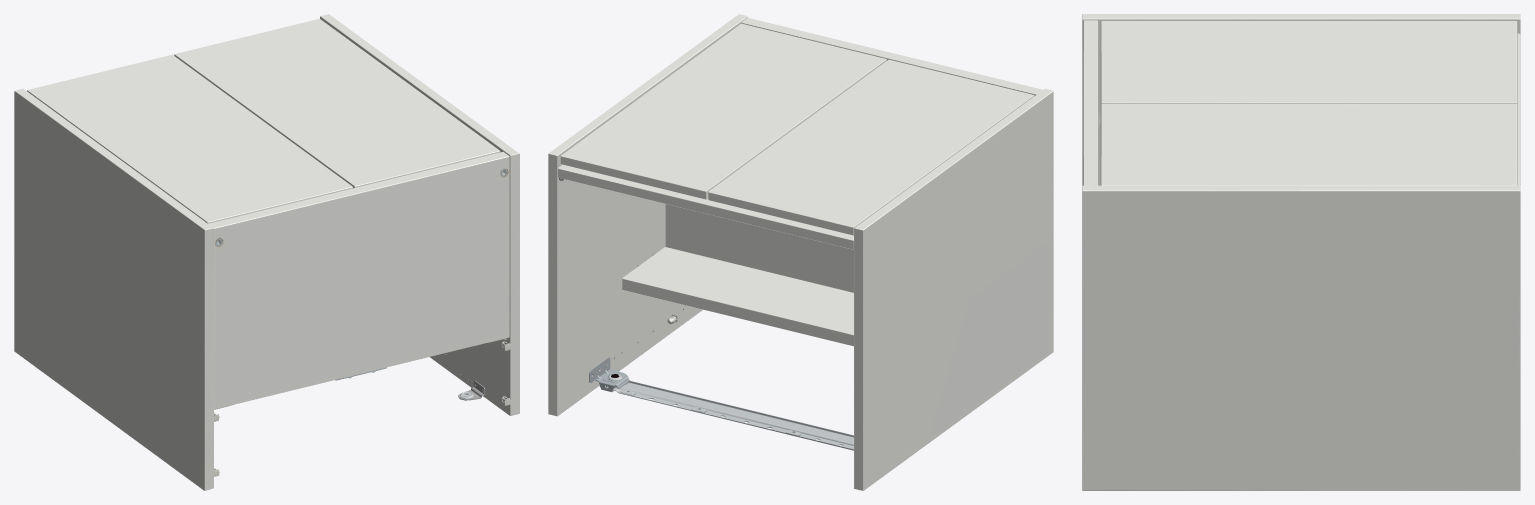
File: havback_szafka_umywalkowa_z_drzwiami_80535003.glb
The picture shows the model from 3 angles, left to right: view 1: azimuth 30°, elevation 25°; view 2: azimuth 150°, elevation 25°; view 3: azimuth 270°, elevation 25°; orthographic projection. The views are drawn at different scales.
Parts seen in each view (by area): view 1: havback_szafka_umywalkowa_z_drzwiami_80535003; view 2: havback_szafka_umywalkowa_z_drzwiami_80535003; view 3: havback_szafka_umywalkowa_z_drzwiami_80535003.
Boxes of the visible parts, left/top/right/bottom form: havback_szafka_umywalkowa_z_drzwiami_80535003: left=14, top=14, right=519, bottom=490; havback_szafka_umywalkowa_z_drzwiami_80535003: left=548, top=14, right=1053, bottom=490; havback_szafka_umywalkowa_z_drzwiami_80535003: left=1082, top=14, right=1520, bottom=490.
Bounding box in the file's own units: 0.6 × 0.4753 × 0.628.
2 materials, 2 textured.
